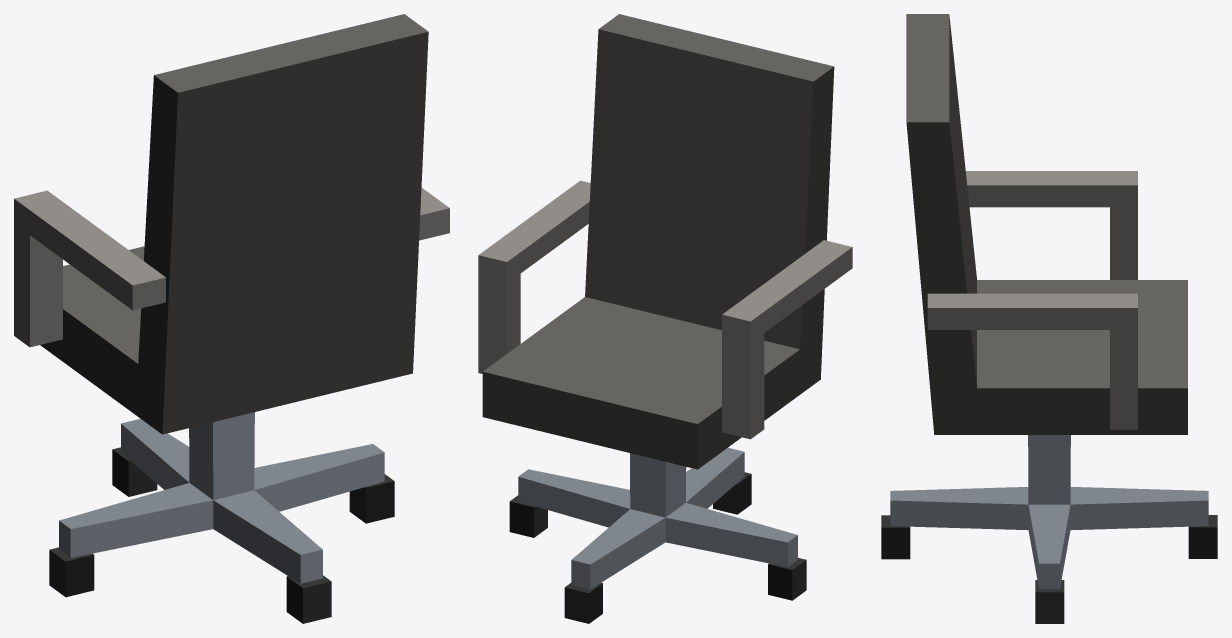
Rendered from silla_desk.obj.
The picture shows the model from 3 angles, left to right: view 1: azimuth 30°, elevation 25°; view 2: azimuth 150°, elevation 25°; view 3: azimuth 270°, elevation 25°; orthographic projection. The views are drawn at different scales.
Parts seen in each view (by area): view 1: Prop_Desk_Chair_Base_Malla.247, Prop_Desk_Chair_Malla.246; view 2: Prop_Desk_Chair_Base_Malla.247, Prop_Desk_Chair_Malla.246; view 3: Prop_Desk_Chair_Base_Malla.247, Prop_Desk_Chair_Malla.246.
Boxes of the visible parts, box(x1,y1,x2,y2) form: Prop_Desk_Chair_Base_Malla.247: box(14, 14, 449, 434); Prop_Desk_Chair_Malla.246: box(49, 412, 394, 623); Prop_Desk_Chair_Base_Malla.247: box(478, 14, 852, 469); Prop_Desk_Chair_Malla.246: box(509, 447, 806, 623); Prop_Desk_Chair_Base_Malla.247: box(906, 14, 1187, 434); Prop_Desk_Chair_Malla.246: box(881, 435, 1217, 623).
Size of the model in its own units: 9.78 by 15.55 by 9.78.
